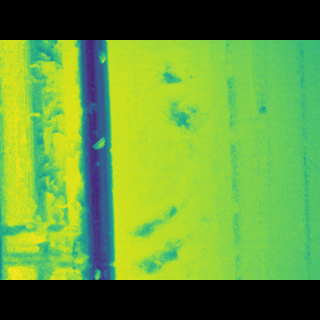Loch: (119, 73, 229, 250), (0, 68, 93, 245)
